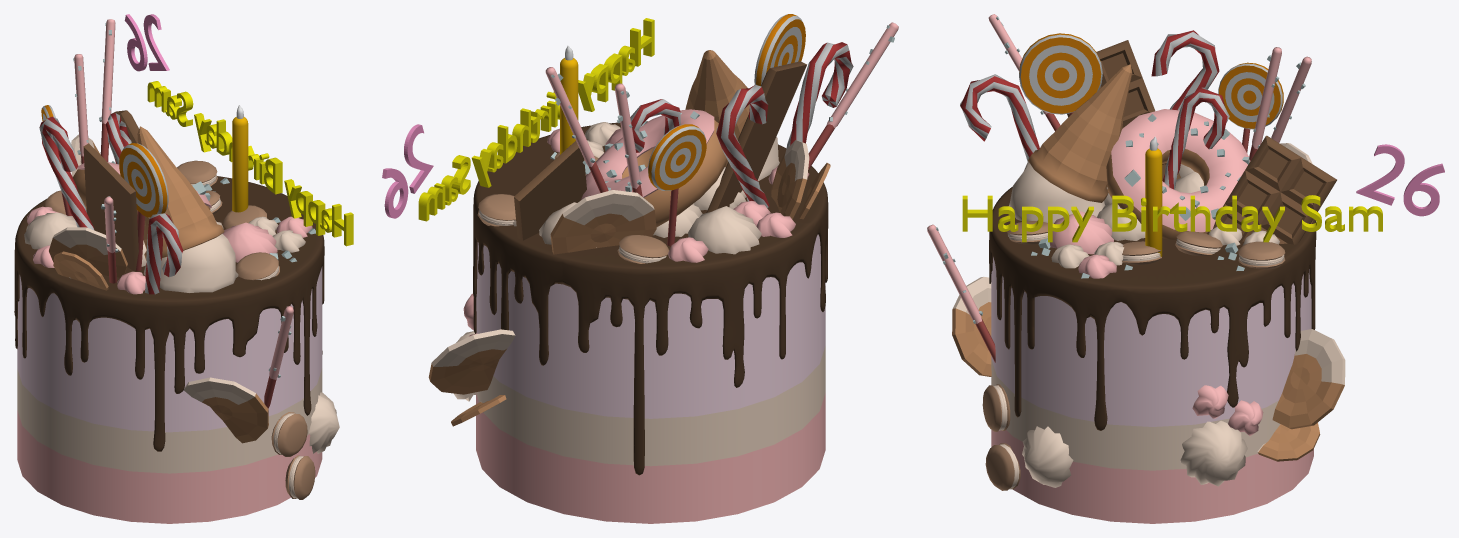
File: cake1.fbx
The picture shows the model from 3 angles, left to right: view 1: azimuth 30°, elevation 25°; view 2: azimuth 150°, elevation 25°; view 3: azimuth 270°, elevation 25°; orthographic projection. The views are drawn at different scales.
Visible parts, largest first — view 1: pCylinder1, pCylinder3, pCylinder18, Text, pCube70, pCylinder35, pCylinder28, pCylinder27, pCylinder25, pCylinder33, Circle, Text.001 (+18 smaller); view 2: pCylinder1, pCylinder3, Text, pCube38, pCylinder32, pCube70, pCube54, pCylinder30, pCylinder29, pCylinder25, pCylinder18, pCylinder27 (+14 smaller); view 3: pCylinder1, pCylinder3, pCylinder18, pCube38, Text, pCube54, pCylinder28, pCylinder30, palepink17, pCylinder29, pCylinder35, pCylinder25 (+22 smaller).
Part boxes in pixels (bbox=[...]): pCylinder1: bbox=[17, 266, 322, 523]; pCylinder3: bbox=[14, 176, 324, 451]; pCylinder18: bbox=[137, 126, 238, 292]; Text: bbox=[147, 81, 353, 246]; pCube70: bbox=[83, 143, 138, 271]; pCylinder35: bbox=[184, 377, 268, 443]; pCylinder28: bbox=[119, 143, 168, 271]; pCylinder27: bbox=[39, 116, 94, 230]; pCylinder25: bbox=[144, 213, 183, 294]; pCylinder33: bbox=[49, 227, 127, 277]; Circle: bbox=[232, 117, 248, 212]; Text.001: bbox=[124, 14, 169, 71]; pCylinder1: bbox=[476, 234, 825, 523]; pCylinder3: bbox=[473, 121, 828, 475]; Text: bbox=[418, 18, 654, 221]; pCube38: bbox=[581, 109, 726, 226]; pCylinder32: bbox=[550, 190, 656, 254]; pCube70: bbox=[706, 61, 806, 212]; pCube54: bbox=[514, 141, 586, 240]; pCylinder30: bbox=[428, 329, 515, 394]; pCylinder29: bbox=[648, 124, 706, 246]; pCylinder25: bbox=[786, 42, 853, 148]; pCylinder18: bbox=[685, 50, 779, 181]; pCylinder27: bbox=[716, 84, 769, 208]; pCylinder1: bbox=[991, 257, 1313, 523]; pCylinder3: bbox=[989, 186, 1316, 430]; pCylinder18: bbox=[1009, 64, 1132, 223]; pCube38: bbox=[1106, 109, 1250, 239]; Text: bbox=[962, 195, 1382, 242]; pCube54: bbox=[1207, 135, 1336, 244]; pCylinder28: bbox=[1019, 33, 1102, 115]; pCylinder30: bbox=[1272, 329, 1345, 429]; palepink17: bbox=[1180, 420, 1247, 486]; pCylinder29: bbox=[1218, 62, 1283, 152]; pCylinder35: bbox=[952, 277, 991, 376]; pCylinder25: bbox=[960, 74, 1039, 161].
Size of the model in its own units: 1114 by 1409 by 1624.
